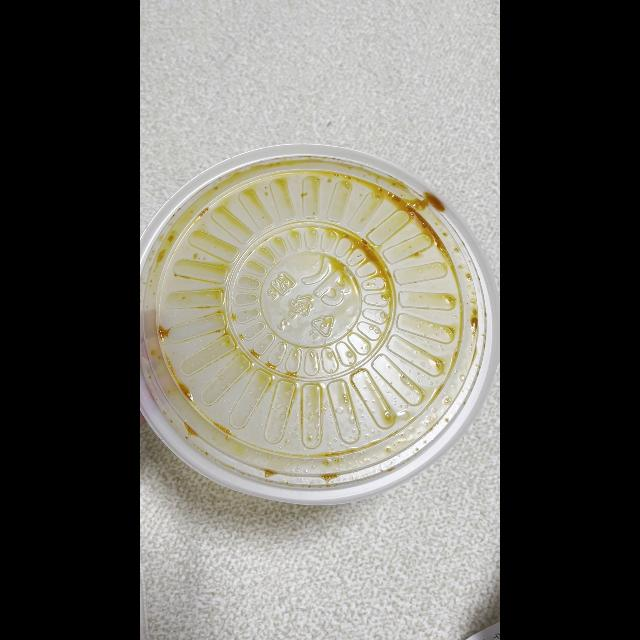dirty: (141, 145, 491, 492)
